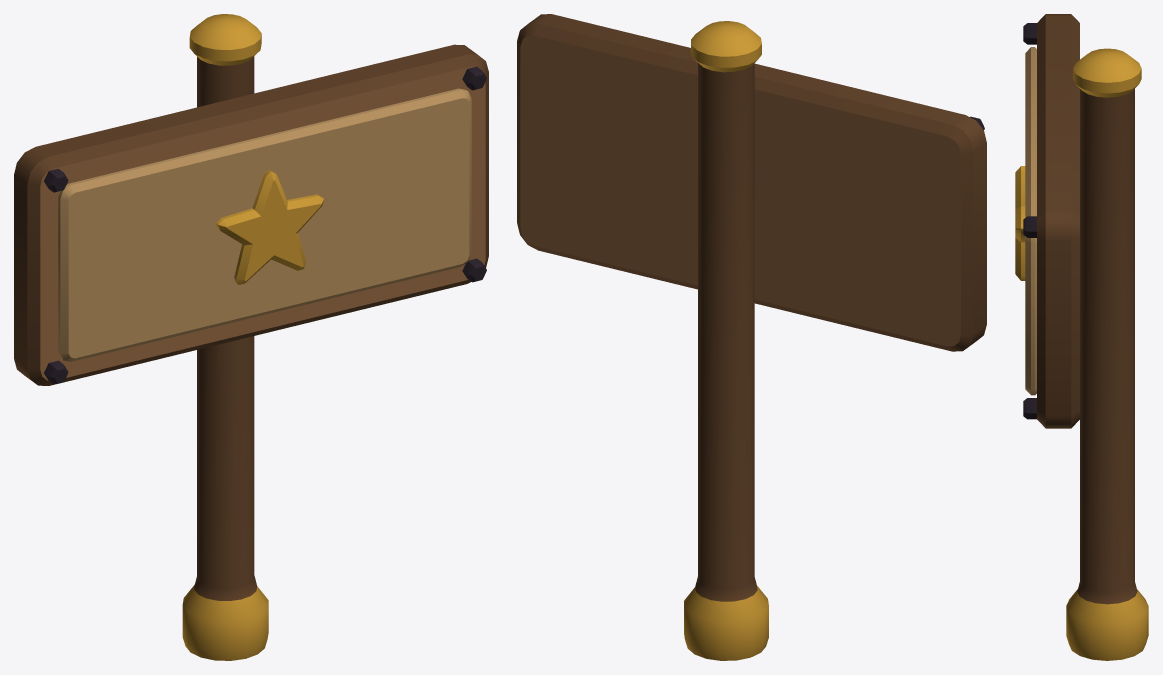
Rendered from Sign_29.glb.
The picture shows the model from 3 angles, left to right: view 1: azimuth 30°, elevation 25°; view 2: azimuth 150°, elevation 25°; view 3: azimuth 270°, elevation 25°; orthographic projection. The views are drawn at different scales.
Visible parts, largest first — view 1: Sign_29; view 2: Sign_29; view 3: Sign_29.
Part boxes in pixels (box(x1,y1,x2,y2)): Sign_29: box(14, 14, 488, 660); Sign_29: box(517, 14, 986, 660); Sign_29: box(1015, 14, 1148, 660).
Size of the model in its own units: 2.58 by 3.33 by 0.68.
